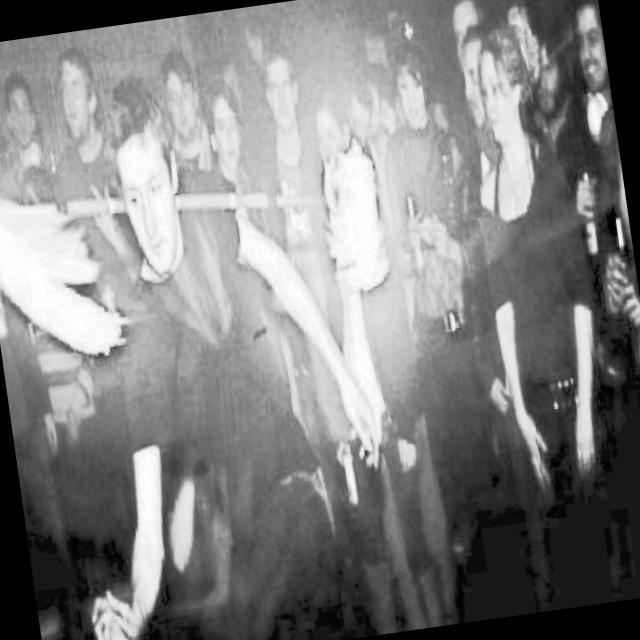Person: (15, 43, 406, 640), (356, 17, 518, 528), (450, 14, 619, 497), (238, 34, 342, 314), (34, 45, 118, 208)
